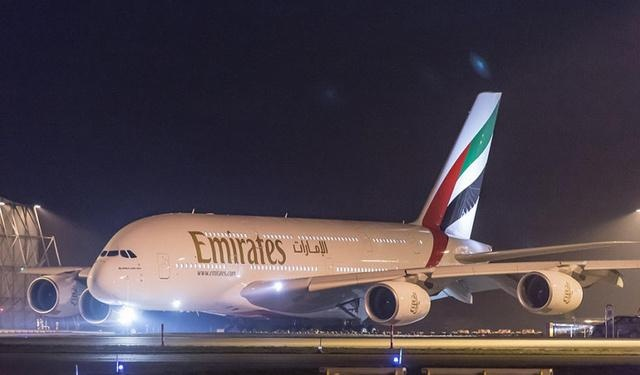airplane: (18, 89, 640, 333)
